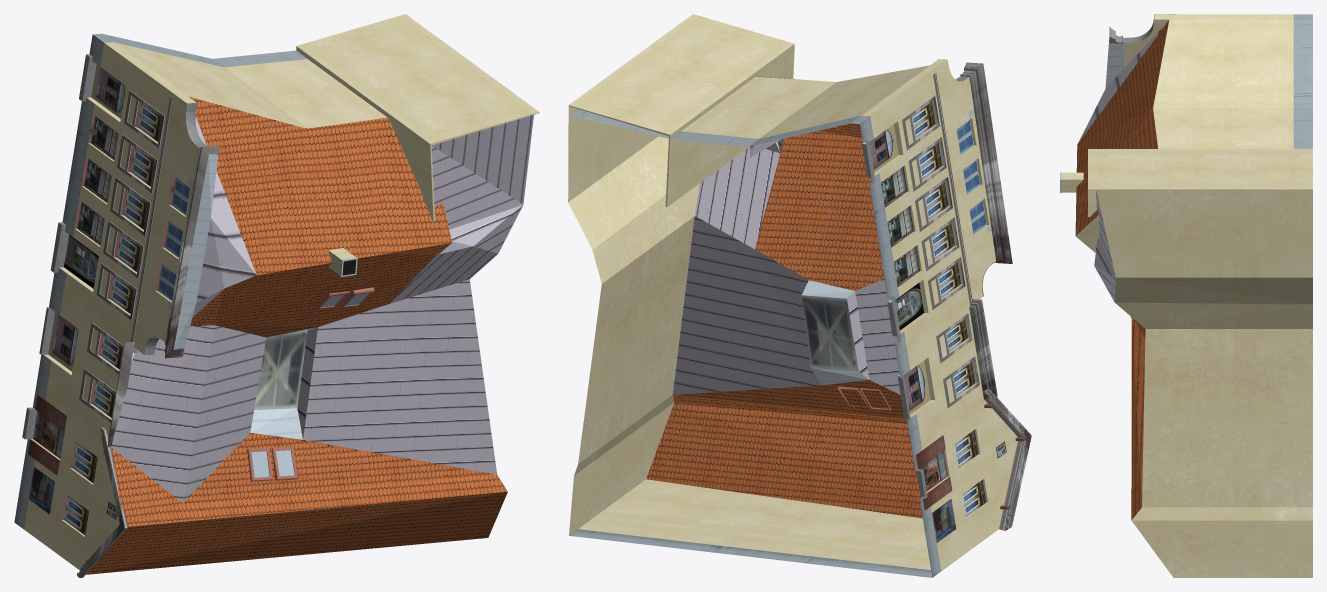
File: Vana-Viru_6.obj
The picture shows the model from 3 angles, left to right: view 1: azimuth 30°, elevation 25°; view 2: azimuth 150°, elevation 25°; view 3: azimuth 270°, elevation 25°; orthographic projection. The views are drawn at different scales.
Visible parts, largest first — view 1: Line009; view 2: Line009; view 3: Line009.
Boxes of the visible parts, x1=… form: Line009: x1=14, y1=14, x2=539, y2=577; Line009: x1=568, y1=14, x2=1031, y2=577; Line009: x1=1060, y1=14, x2=1312, y2=577.
Bounding box in the file's own units: 20.38 × 25.16 × 13.23.
